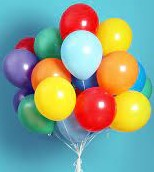Balloon: (60, 30, 102, 79), (34, 76, 76, 121), (96, 50, 138, 92), (75, 87, 116, 130), (115, 91, 152, 130), (3, 48, 34, 89), (97, 19, 132, 52)
